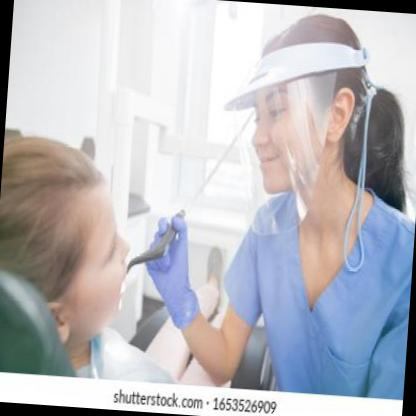Gloves: (140, 212, 206, 328)
